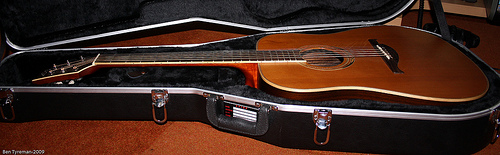guitar: (25, 26, 484, 103)
